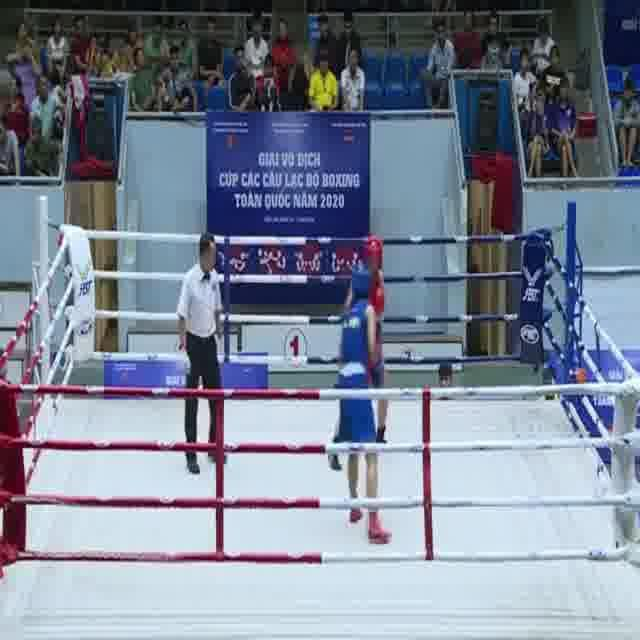blue-player: (335, 264, 395, 546)
red-player: (326, 232, 390, 470)
referee: (173, 228, 230, 478)
